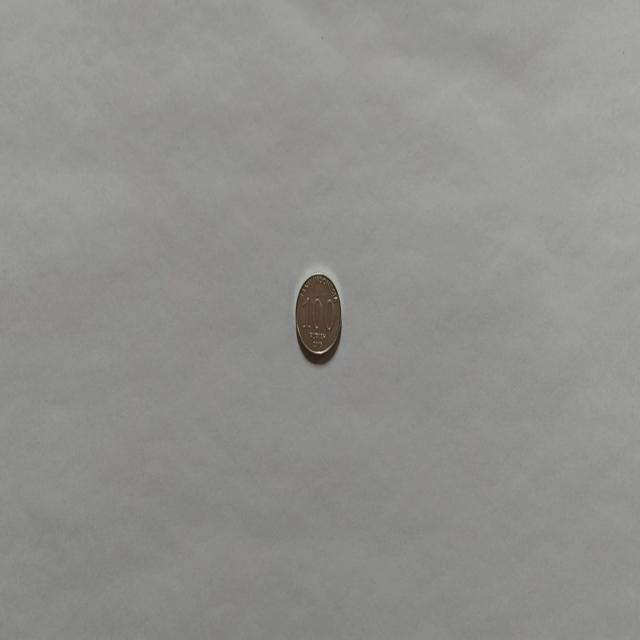seratus rupiah: (294, 271, 342, 363)
